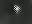person: (13, 4, 24, 16)
